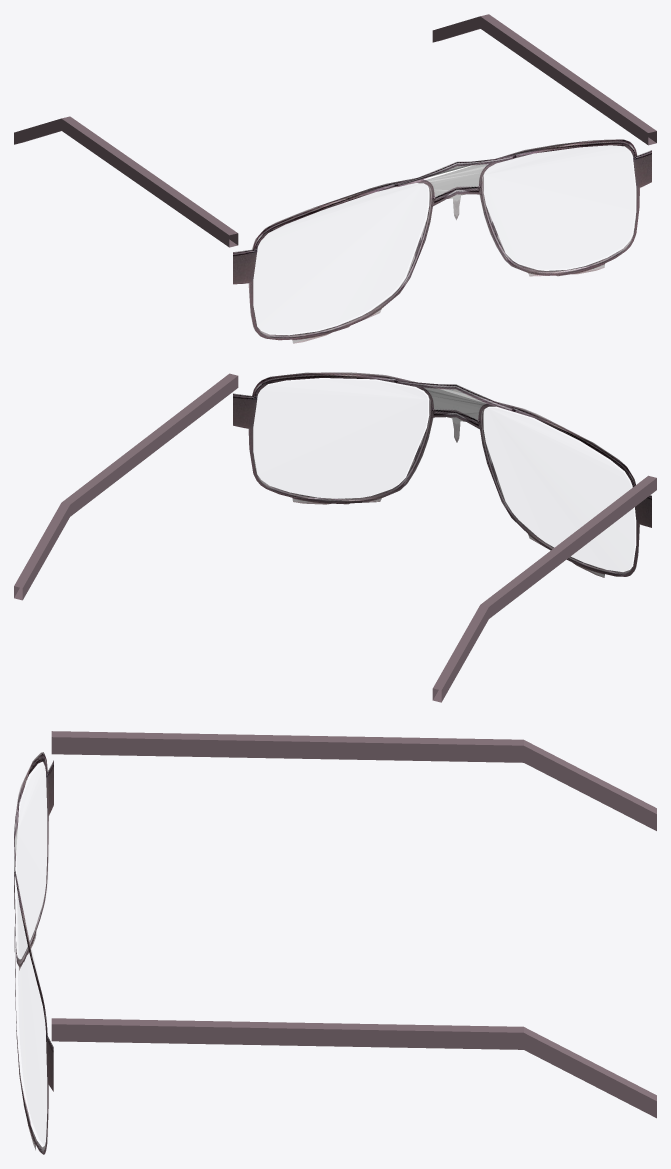
The model's file is gothamstyle-stainless-15_gunmetal.glb.
The picture shows the model from 3 angles, top to bottom: view 1: azimuth 30°, elevation 25°; view 2: azimuth 150°, elevation 25°; view 3: azimuth 270°, elevation 25°; orthographic projection. The views are drawn at different scales.
Visible parts, largest first — view 1: frame_front, temple_viewer_left, temple_viewer_right; view 2: frame_front, temple_viewer_left, temple_viewer_right; view 3: temple_viewer_left, temple_viewer_right, frame_front.
Part boxes in pixels (left/top/right/bottom): frame_front: left=233, top=139, right=651, bottom=343; temple_viewer_left: left=14, top=116, right=238, bottom=247; temple_viewer_right: left=432, top=14, right=656, bottom=145; frame_front: left=233, top=372, right=651, bottom=577; temple_viewer_left: left=432, top=475, right=656, bottom=702; temple_viewer_right: left=14, top=373, right=238, bottom=600; temple_viewer_left: left=51, top=731, right=656, bottom=830; temple_viewer_right: left=51, top=1018, right=656, bottom=1118; frame_front: left=14, top=752, right=53, bottom=1154.
Size of the model in its own units: 0.1467 by 0.0491 by 0.136.
3 materials, 2 textured.
